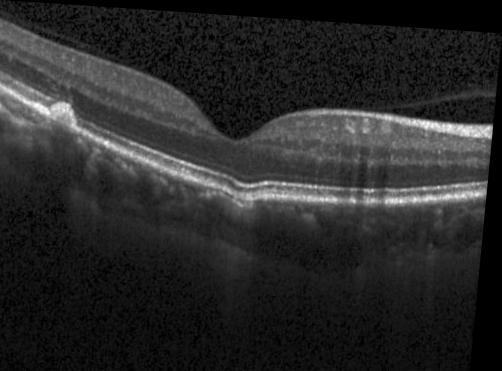retinal_drusen: (52, 109, 75, 125)
vitreomacular_traction: (1, 10, 126, 62), (373, 85, 496, 105)
